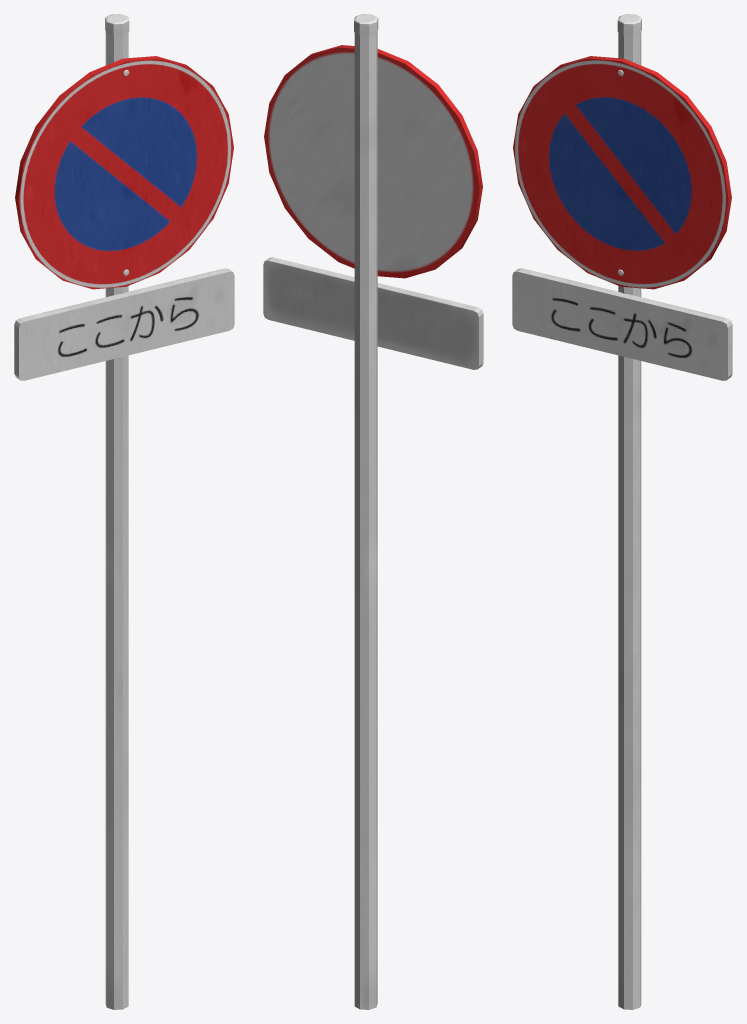
File: sing_chuukin_kokokara.fbx
The picture shows the model from 3 angles, left to right: view 1: azimuth 30°, elevation 25°; view 2: azimuth 150°, elevation 25°; view 3: azimuth 330°, elevation 25°; orthographic projection.
Visible parts, largest first — view 1: polySurface9, polySurface10, pPipe1; view 2: polySurface9, polySurface10, pPipe1; view 3: polySurface9, polySurface10, pPipe1.
Boxes of the visible parts, left/top/right/bottom form: polySurface9: left=15, top=56, right=233, bottom=289; polySurface10: left=105, top=14, right=129, bottom=1009; pPipe1: left=14, top=268, right=234, bottom=380; polySurface9: left=264, top=45, right=482, bottom=278; polySurface10: left=354, top=14, right=378, bottom=1009; pPipe1: left=263, top=257, right=483, bottom=369; polySurface9: left=513, top=56, right=731, bottom=289; polySurface10: left=617, top=14, right=641, bottom=1009; pPipe1: left=512, top=268, right=732, bottom=380.
Bounding box in the file's own units: 0.6062 × 2.65 × 0.0786.
